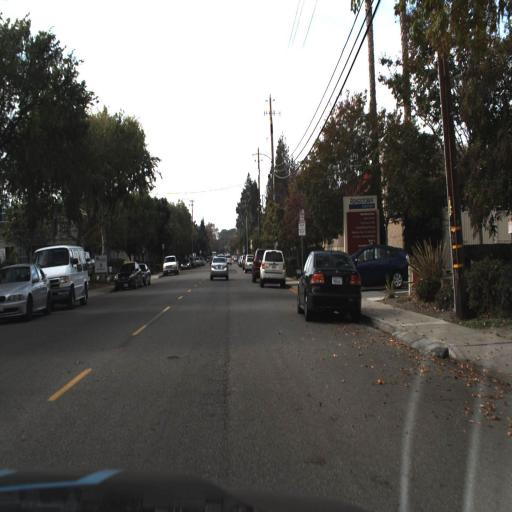car: (296, 246, 362, 325), (0, 264, 50, 322), (50, 246, 90, 306), (356, 245, 411, 287), (257, 248, 288, 288), (112, 257, 142, 293), (112, 260, 143, 291), (206, 253, 228, 285), (160, 251, 182, 279), (208, 256, 230, 281), (138, 260, 152, 288)
